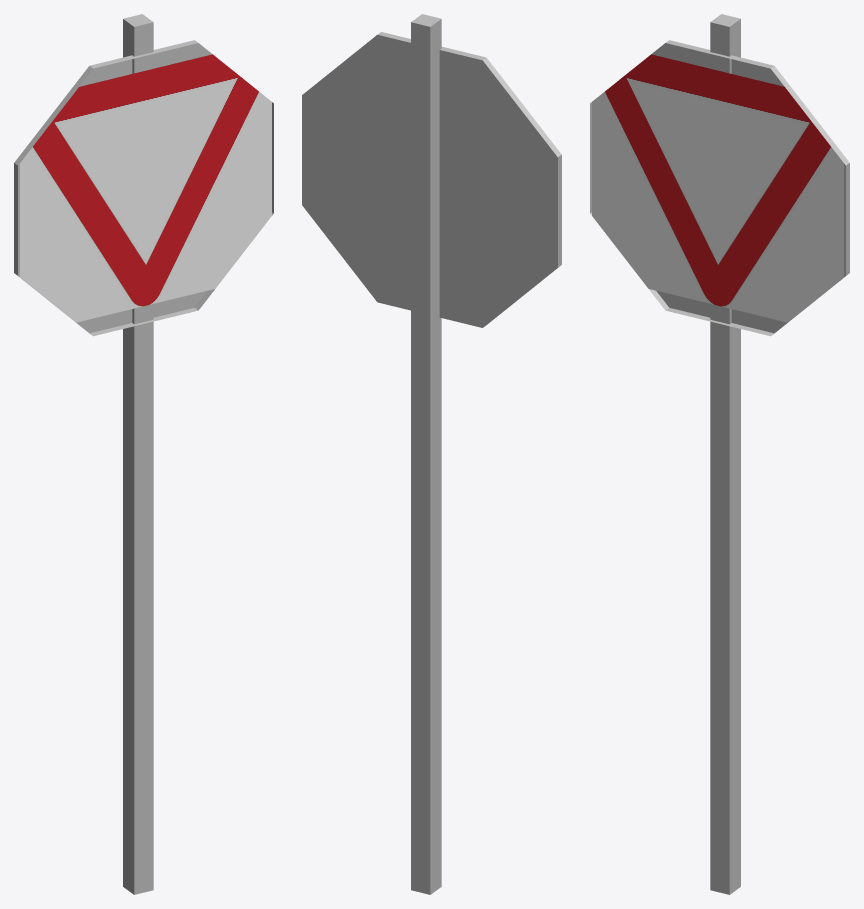
File: stopbord.fbx
The picture shows the model from 3 angles, left to right: view 1: azimuth 30°, elevation 25°; view 2: azimuth 150°, elevation 25°; view 3: azimuth 330°, elevation 25°; orthographic projection.
Visible parts, largest first — view 1: stopbord; view 2: stopbord; view 3: stopbord.
Part boxes in pixels (<box>): stopbord: <box>14,14,273,894</box>; stopbord: <box>302,14,561,894</box>; stopbord: <box>590,14,849,894</box>.
Size of the model in its own units: 59.55 by 193 by 5.33.
